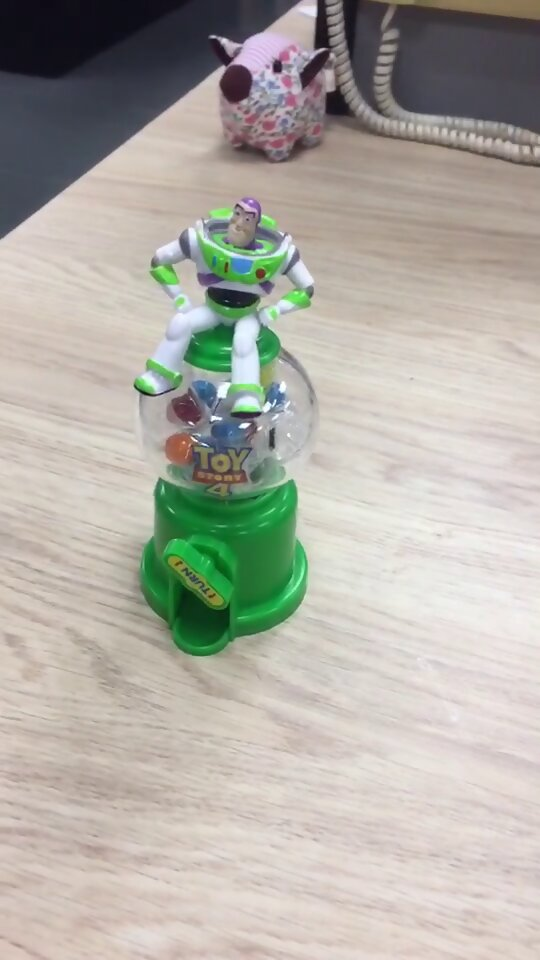buzz: (131, 192, 322, 658)
